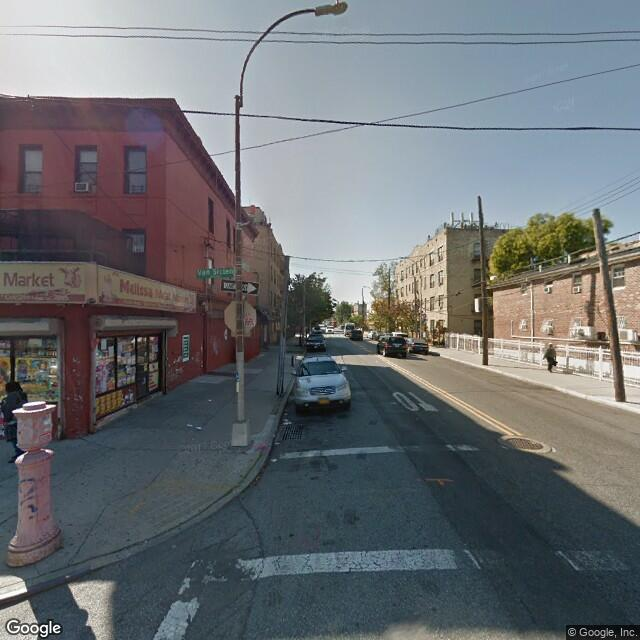litter: (186, 417, 202, 430), (282, 418, 292, 427), (270, 457, 280, 463), (168, 543, 179, 548), (206, 398, 216, 402), (273, 445, 282, 447)
